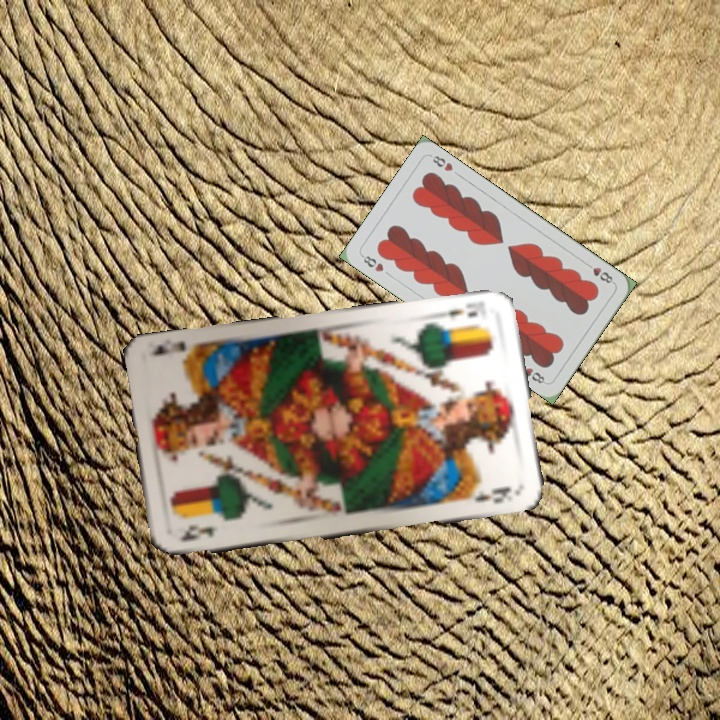EK: (436, 297, 488, 321), (176, 521, 220, 545)
H8: (581, 259, 617, 286), (357, 251, 386, 275)
